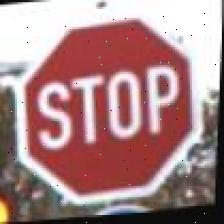Stop: (8, 11, 205, 211)
